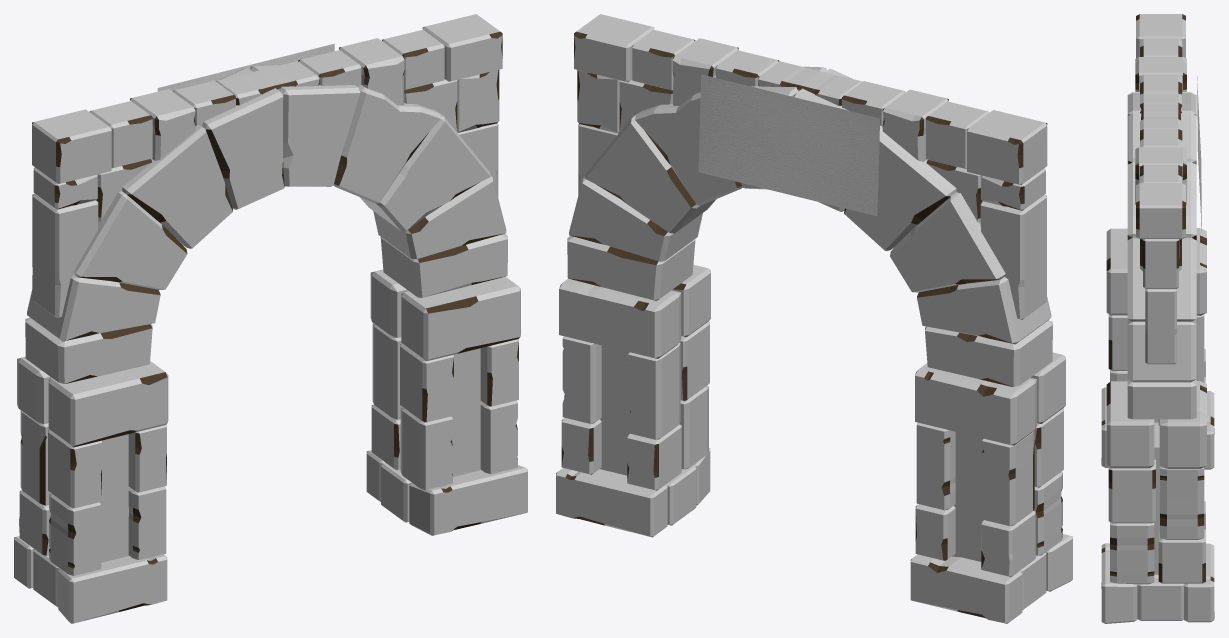
The model's file is ArcoCartel.obj.
3 views of the same model, side by side, from view 1: azimuth 30°, elevation 25°; view 2: azimuth 150°, elevation 25°; view 3: azimuth 270°, elevation 25° (orthographic). The views are drawn at different scales.
Visible parts, largest first — view 1: Arch_Cube.035, Plane; view 2: Arch_Cube.035, Plane; view 3: Arch_Cube.035, Plane.
Boxes of the visible parts, x1,y1,x2,y2 form: Arch_Cube.035: (14, 14, 527, 623); Plane: (157, 43, 334, 91); Arch_Cube.035: (556, 14, 1072, 623); Plane: (698, 74, 880, 216); Arch_Cube.035: (1101, 14, 1214, 623); Plane: (1197, 76, 1201, 232).
Bounding box in the file's own units: 4.1 × 4.01 × 0.9926.
